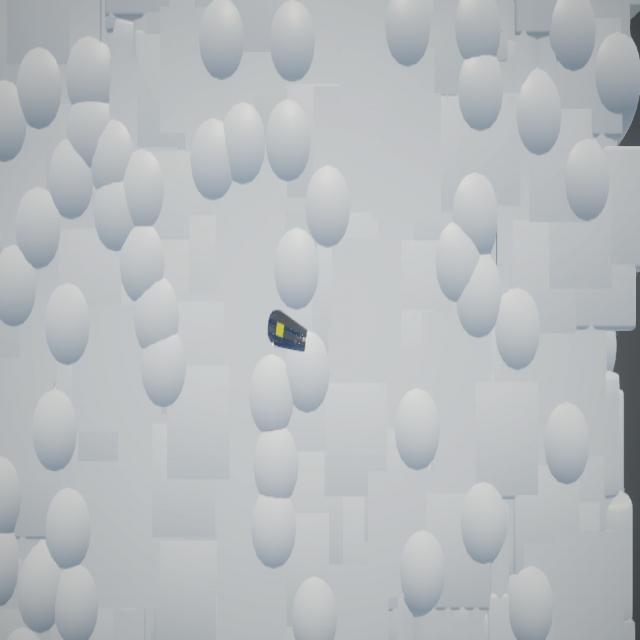handle_folk: (268, 310, 308, 354)
